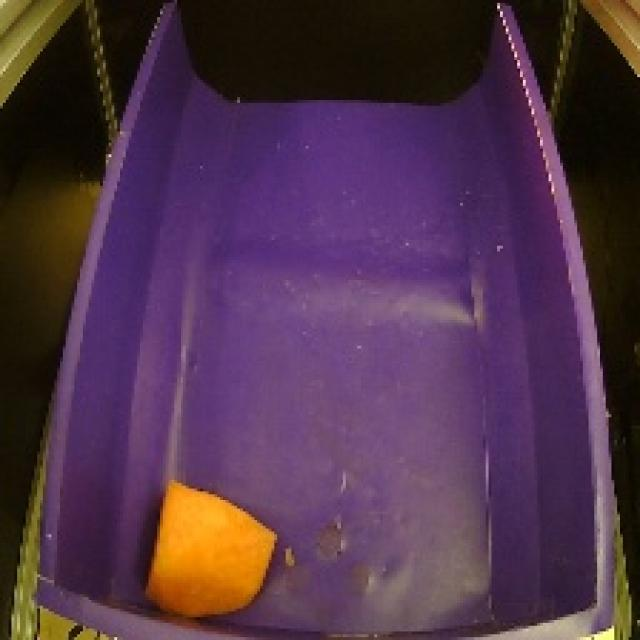carrots: (123, 471, 294, 623)
